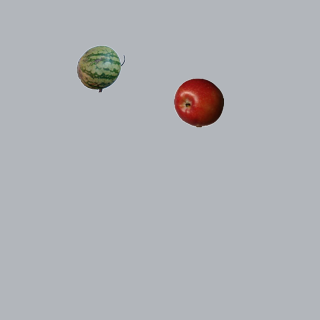Apple Braeburn: (173, 77, 223, 127)
Watermelon: (75, 43, 125, 93)
